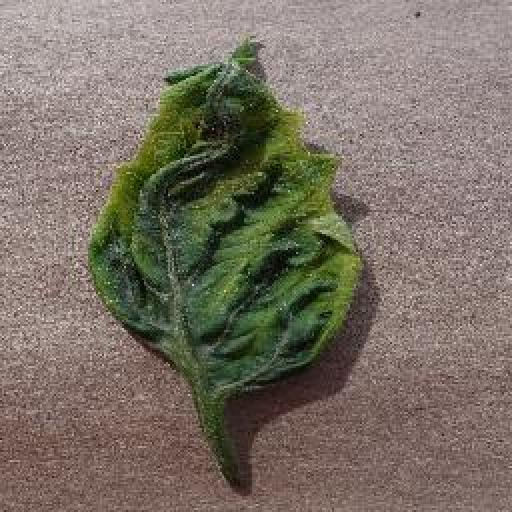disease_tomato: (87, 42, 360, 394)
